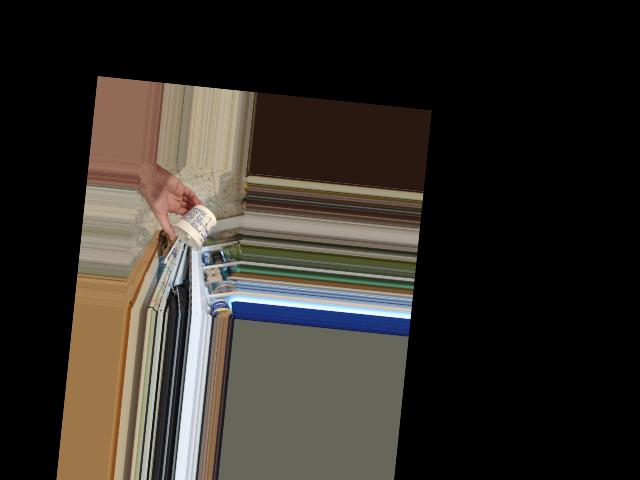cotage: (168, 200, 213, 253)
